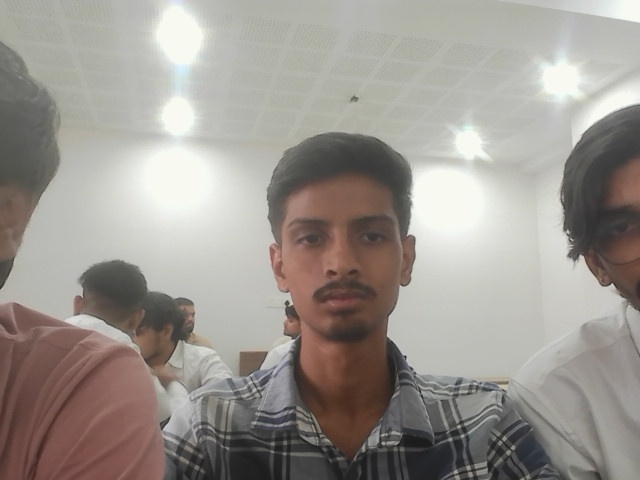light_on: (570, 71, 640, 135), (151, 87, 203, 133), (445, 116, 492, 158), (542, 66, 570, 94), (615, 5, 636, 25)
person: (0, 36, 165, 478), (133, 292, 236, 429)
